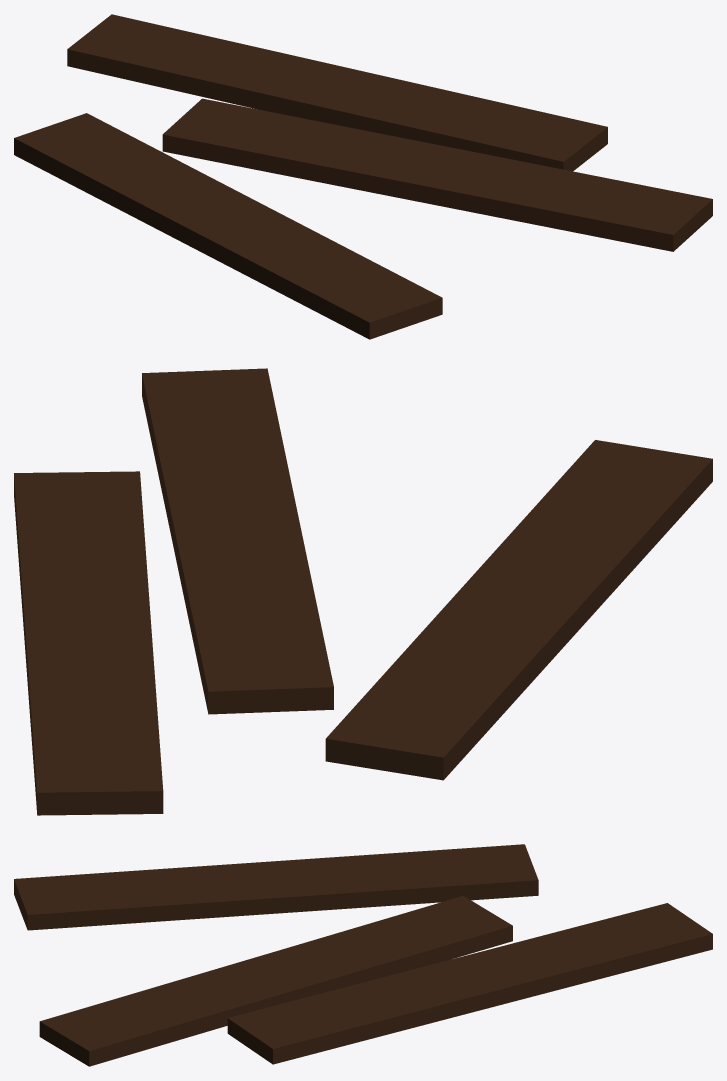
The model's file is Tabuas1.fbx.
The picture shows the model from 3 angles, top to bottom: view 1: azimuth 30°, elevation 25°; view 2: azimuth 150°, elevation 25°; view 3: azimuth 270°, elevation 25°; orthographic projection. The views are drawn at different scales.
Parts seen in each view (by area): view 1: Cube.301; view 2: Cube.301; view 3: Cube.301.
Part boxes in pixels (x1=…): Cube.301: x1=14, y1=14, x2=712, y2=339; Cube.301: x1=14, y1=368, x2=712, y2=815; Cube.301: x1=14, y1=844, x2=712, y2=1066.
Size of the model in its own units: 189 by 6.65 by 270.
